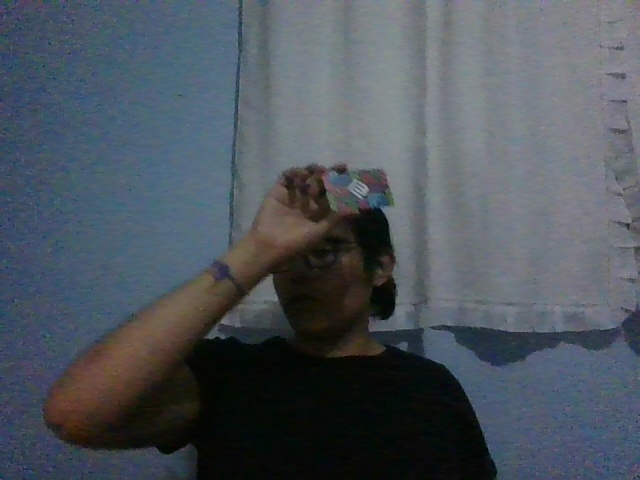tarjeta: (321, 168, 394, 214)
